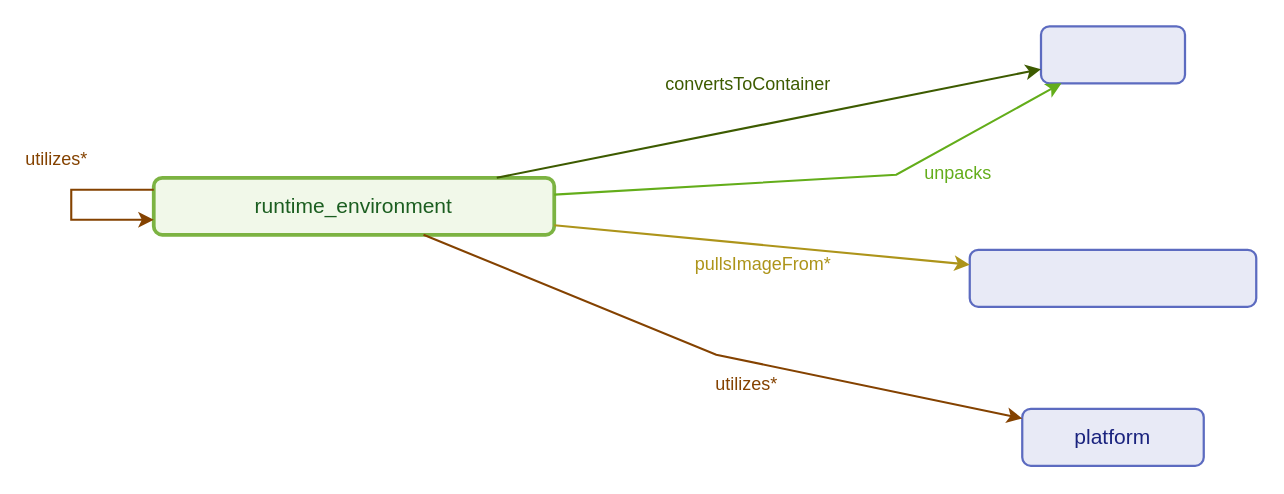
Some shapes in this 1284 by 494 pixel diagram are drawn without their labels. The centre of each missing label's shape, as x and y in pixels:
"image" goes at [1112,54].
"image_registry" goes at [1112,277].
